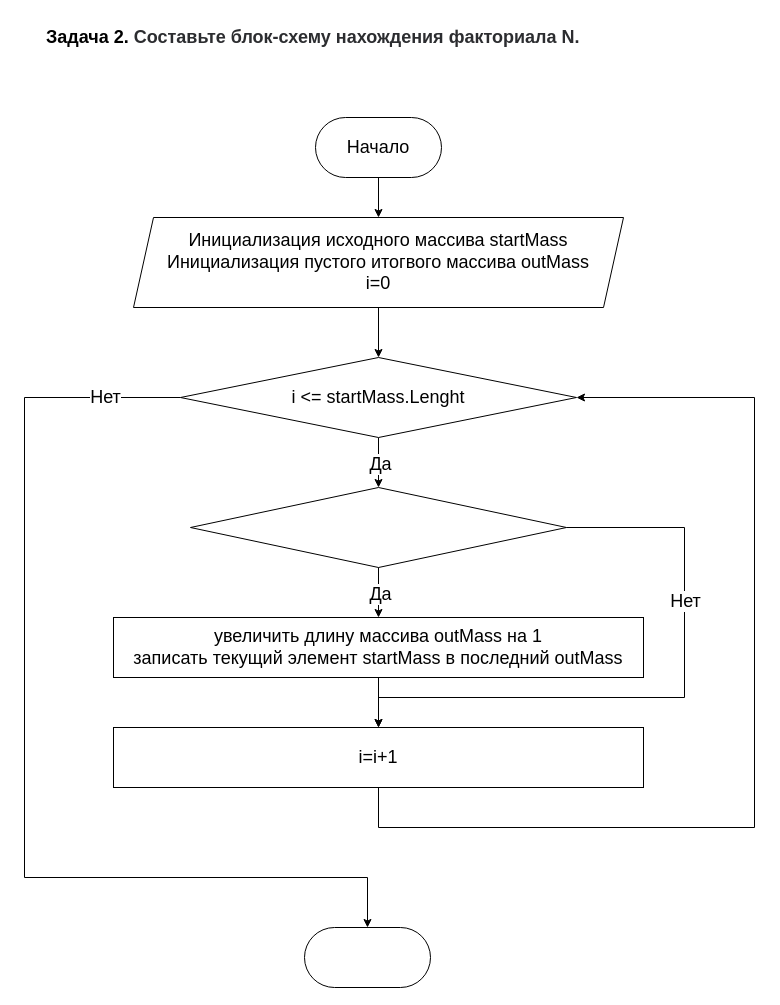
Image size: 780x1005. Some labels were removed from this diagram. Here are the shapes that lost their labels. From the top down, the box of each, then its label:
(190, 486, 566, 568): Длина элемента startMass <=3
(304, 926, 430, 988): Конец
